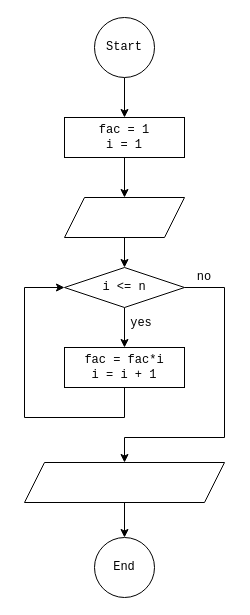
Some shapes in this 250 by 615 pixel diagram are drawn without their labels. The shapes that lost their labels are listed below. From the top down, each one's centre as x and y in pixels, then its label:
At (124,217): "read n".
At (124,482): "print fac".
